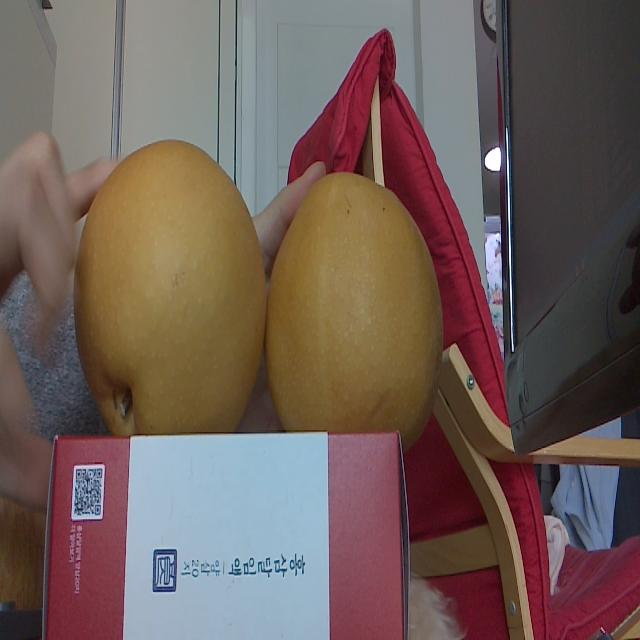pear: (75, 137, 266, 436), (265, 171, 443, 456)
